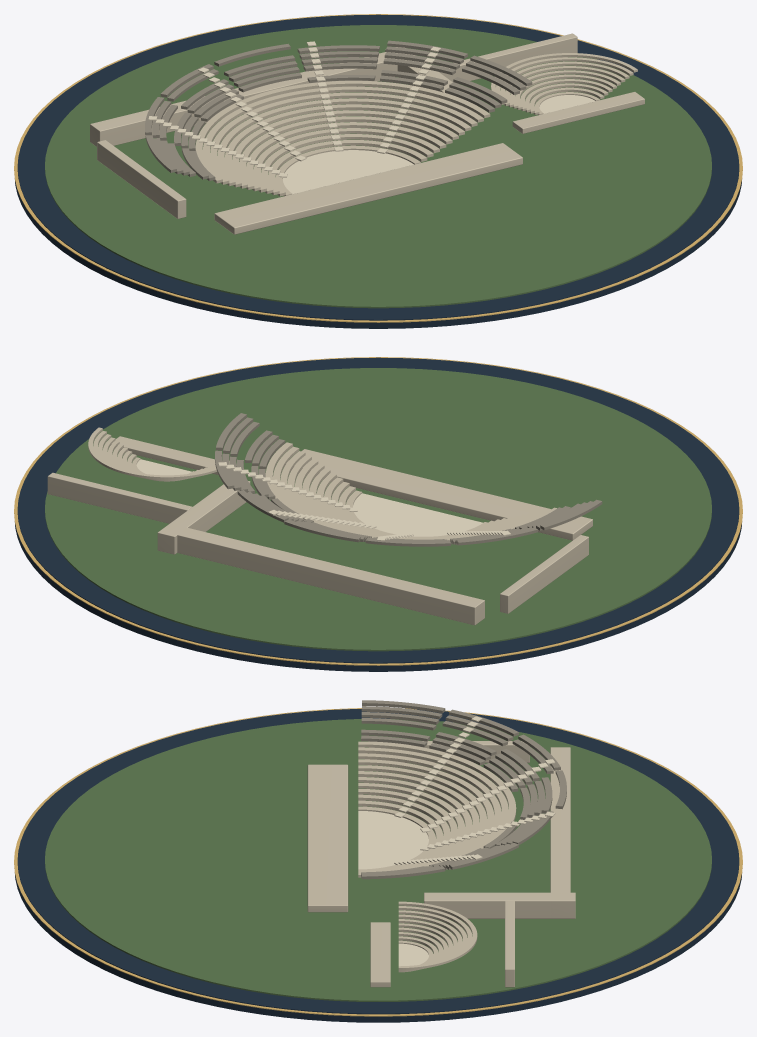
File: miniature-source.glb
3 renders of one model, top to bottom at view 1: azimuth 30°, elevation 25°; view 2: azimuth 150°, elevation 25°; view 3: azimuth 270°, elevation 25°, orthographic.
Parts seen in each view (by area): view 1: Contemporary grass display ground, Vestige navy top, Low surviving stage foundation, Vestige navy plinth, Vestige gold decorative rim, Low archaeological masonry, Grand theatre semicircular orchestra, Low archaeological masonry.003, Grand theatre lower seating.011, Grand theatre lower seating.010, Grand theatre lower seating.009, Grand theatre lower seating.008 (+19 smaller); view 2: Contemporary grass display ground, Vestige navy top, Low archaeological masonry, Low surviving stage foundation, Vestige navy plinth, Vestige gold decorative rim, Grand theatre semicircular orchestra, Low archaeological masonry.002, Low archaeological masonry.003, Low archaeological masonry.001, Odeon stage foundations, Grand theatre lower seating.011 (+10 smaller); view 3: Contemporary grass display ground, Vestige navy top, Low surviving stage foundation, Vestige navy plinth, Vestige gold decorative rim, Low archaeological masonry.001, Grand theatre semicircular orchestra, Low archaeological masonry, Grand theatre lower seating.011, Grand theatre lower seating.010, Grand theatre lower seating.009, Odeon stage foundations (+14 smaller).
Part boxes in pixels (x1,y1,x2,y2): Contemporary grass display ground: (45,25,711,308); Vestige navy top: (17,14,739,320); Low surviving stage foundation: (214,143,522,234); Vestige navy plinth: (15,181,741,328); Vestige gold decorative rim: (14,14,742,322); Low archaeological masonry: (90,52,411,146); Grand theatre semicircular orchestra: (283,150,413,194); Low archaeological masonry.003: (97,140,186,218); Grand theatre lower seating.011: (195,80,490,183); Grand theatre lower seating.010: (203,86,483,184); Grand theatre lower seating.009: (210,92,477,185); Grand theatre lower seating.008: (217,98,471,187); Contemporary grass display ground: (45,368,711,651); Vestige navy top: (17,357,739,663); Low archaeological masonry: (161,524,484,625); Low surviving stage foundation: (285,449,592,540); Vestige navy plinth: (15,524,741,671); Vestige gold decorative rim: (14,357,742,665); Grand theatre semicircular orchestra: (353,493,483,536); Low archaeological masonry.002: (47,472,191,523); Low archaeological masonry.003: (500,535,588,613); Low archaeological masonry.001: (157,481,250,554); Odeon stage foundations: (110,436,218,474); Grand theatre lower seating.011: (265,442,556,540); Contemporary grass display ground: (45,719,711,1001); Vestige navy top: (17,709,739,1014); Low surviving stage foundation: (307,764,348,912); Vestige navy plinth: (15,874,741,1022); Vestige gold decorative rim: (14,708,742,1016); Low archaeological masonry.001: (424,892,575,918); Grand theatre semicircular orchestra: (358,811,428,869); Low archaeological masonry: (550,747,570,918); Grand theatre lower seating.011: (358,741,516,877); Grand theatre lower seating.010: (358,747,508,871); Grand theatre lower seating.009: (358,753,501,871); Odeon stage foundations: (370,922,390,987).
Size of the model in its own units: 72.1 by 7.01 by 72.1.
